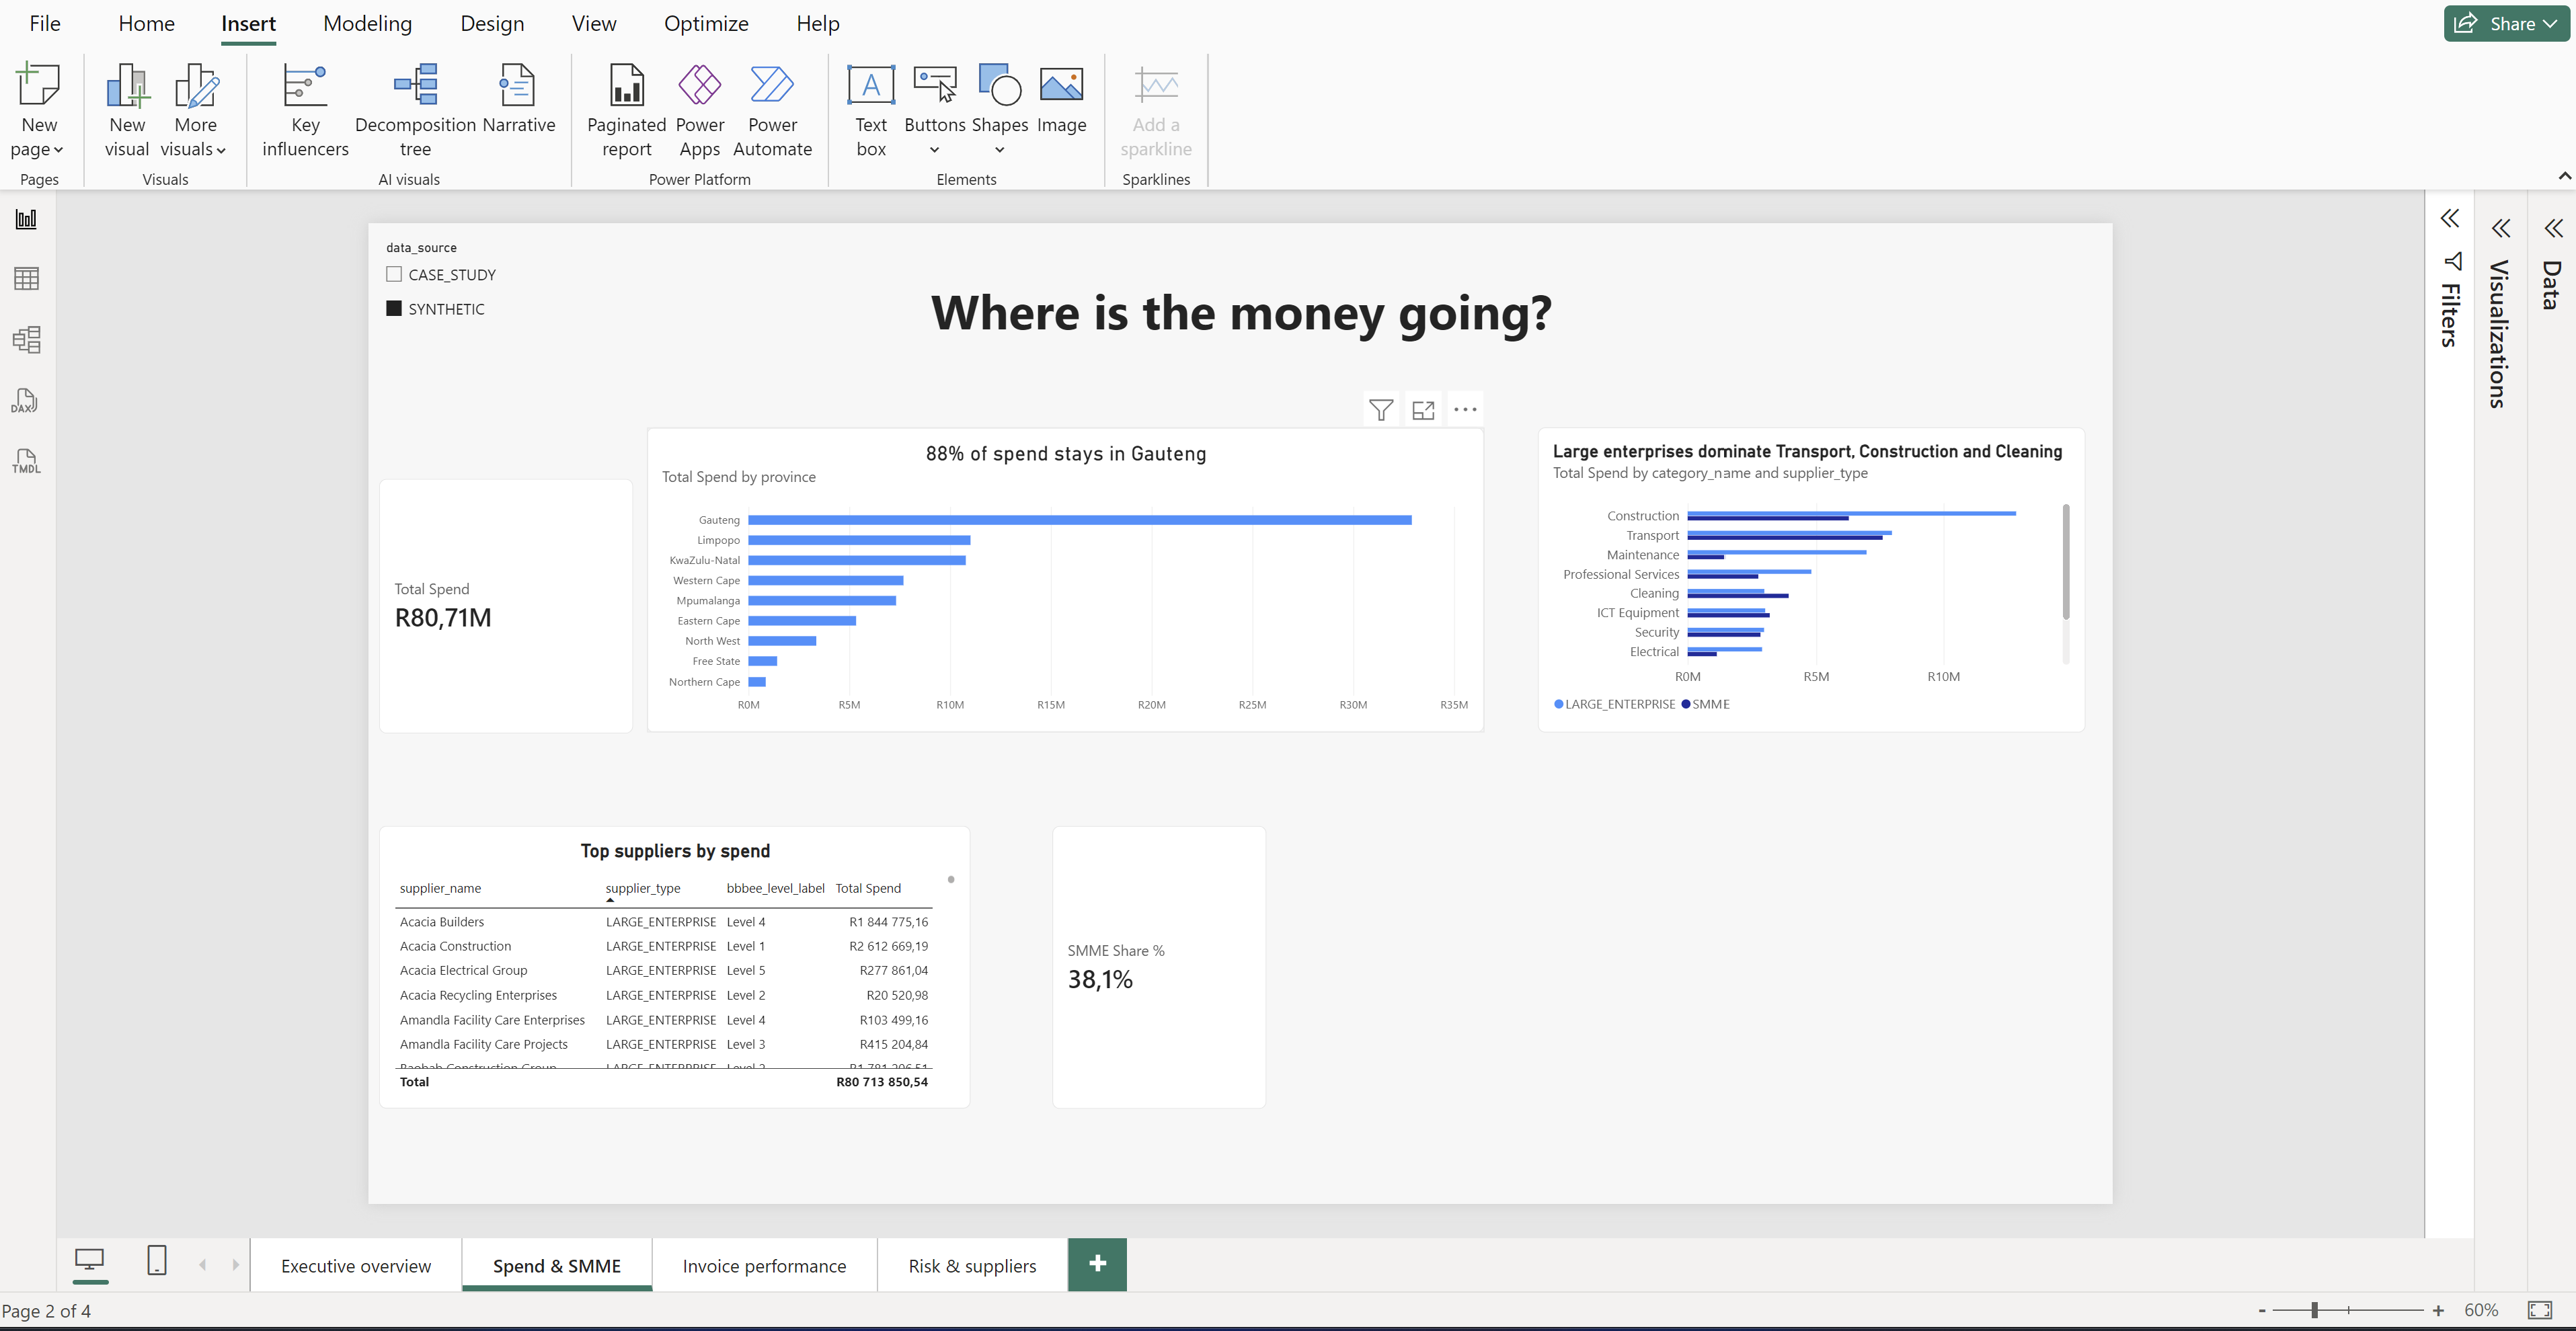

This screenshot's page, from the dashboard's own definition file:
{"tool":"powerbi","page":{"name":"Spend & SMME","canvas":[1920,1080],"ordinal":1},"visuals":[{"type":"cardVisual","fields":{"Data":["fct_purchase_orders.Total Spend"]},"box":[11.6,281,280,280],"z":0},{"type":"slicer","fields":{"Values":["dim_supplier.data_source"]},"box":[11.6,18.2,279.4,143.8],"z":1000},{"type":"cardVisual","fields":{"Data":["fct_purchase_orders.SMME Share %"]},"box":[753.3,663.3,236.4,312.4],"z":2000},{"type":"clusteredBarChart","title":"Large enterprises dominate Transport, Construction and Cleaning","fields":{"Category":["dim_category.category_name"],"Series":["dim_supplier.supplier_type"],"Y":["fct_purchase_orders.Total Spend"]},"box":[1287.7,224.8,601.7,335.6],"z":3000},{"type":"clusteredBarChart","title":"88% of spend stays in Gauteng","fields":{"Category":["dim_supplier.province"],"Y":["fct_purchase_orders.Total Spend"]},"box":[307.5,224.8,922.4,335.6],"z":4000},{"type":"tableEx","title":"Top suppliers by spend","fields":{"Values":["dim_supplier.supplier_name","dim_supplier.supplier_type","dim_supplier.bbbee_level_label","fct_purchase_orders.Total Spend"]},"box":[11.7,663.3,651.7,311.7],"z":5000},{"type":"textbox","box":[436.7,60,1050,101.7],"z":6000}]}

Visuals, with their boxes on the page's 1920x1080 design canvas (x1, y1, x2, y2). These are canvas units, not pixel positions in the 2576x1331 screenshot, which may show the page scaled, cropped or inside an application window:
cardVisual - fct_purchase_orders.Total Spend: <bbox>12, 281, 292, 561</bbox>
slicer - dim_supplier.data_source: <bbox>12, 18, 291, 162</bbox>
cardVisual - fct_purchase_orders.SMME Share %: <bbox>753, 663, 990, 976</bbox>
"Large enterprises dominate Transport, Construction and Cleaning" clusteredBarChart: <bbox>1288, 225, 1889, 560</bbox>
"88% of spend stays in Gauteng" clusteredBarChart: <bbox>308, 225, 1230, 560</bbox>
"Top suppliers by spend" tableEx: <bbox>12, 663, 663, 975</bbox>
textbox: <bbox>437, 60, 1487, 162</bbox>
